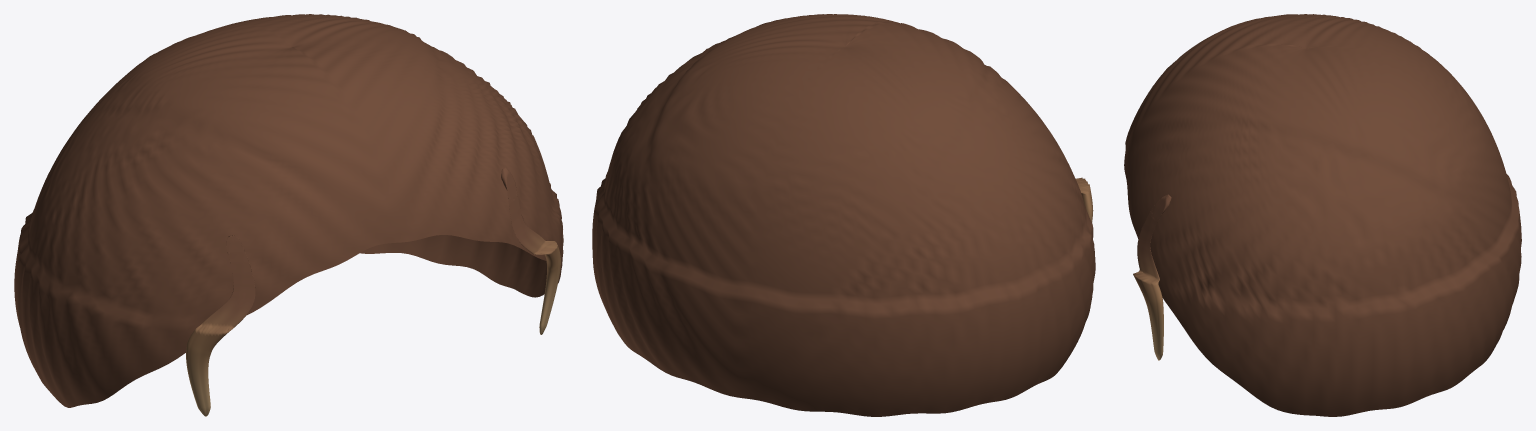
File: Ombre-7dde74563731253-hair.glb
The picture shows the model from 3 angles, left to right: view 1: azimuth 30°, elevation 25°; view 2: azimuth 150°, elevation 25°; view 3: azimuth 270°, elevation 25°; orthographic projection. The views are drawn at different scales.
Parts seen in each view (by area): view 1: 226 hair / Hair / chestnut226.002; view 2: 226 hair / Hair / chestnut226.002; view 3: 226 hair / Hair / chestnut226.002.
Part boxes in pixels (x1,y1,x2,y2): 226 hair / Hair / chestnut226.002: (14, 14, 563, 416); 226 hair / Hair / chestnut226.002: (592, 14, 1095, 416); 226 hair / Hair / chestnut226.002: (1124, 14, 1521, 416).
Size of the model in its own units: 0.9988 by 0.599 by 0.7845.
1 material, 1 textured.
